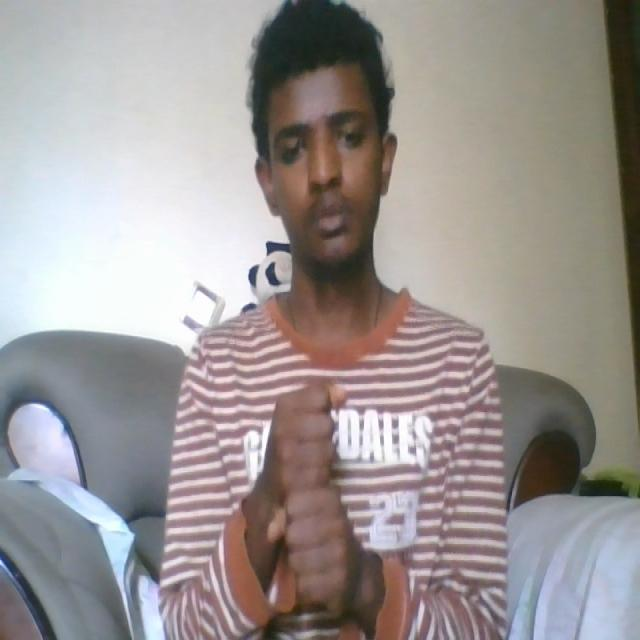meqebel: (261, 375, 356, 619)
